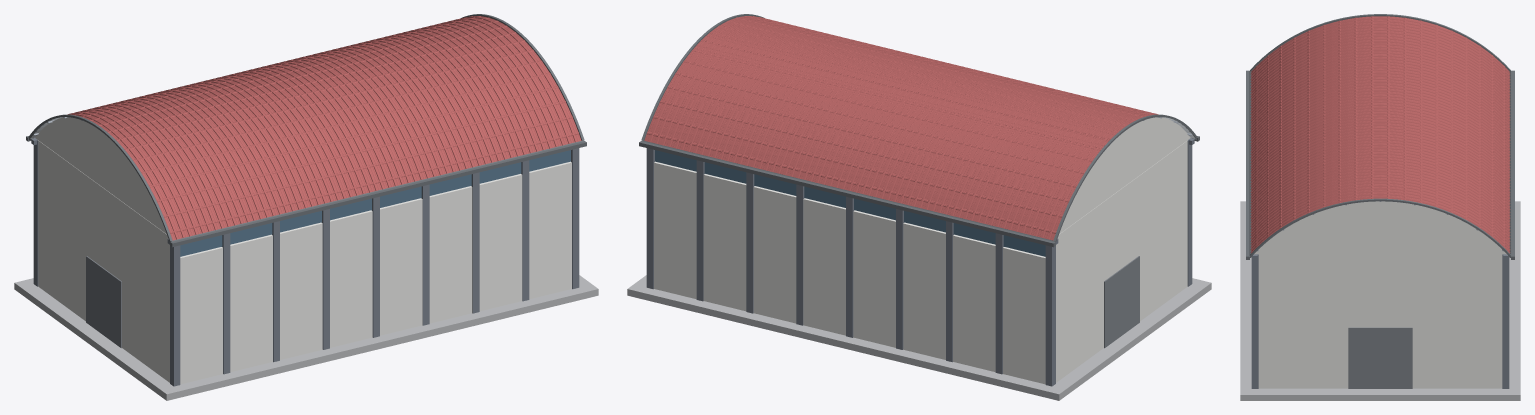
File: Mega_Curved_Gym_Dome.glb
3 views of the same model, side by side, from view 1: azimuth 30°, elevation 25°; view 2: azimuth 150°, elevation 25°; view 3: azimuth 270°, elevation 25° (orthographic). The views are drawn at different scales.
Visible parts, largest first — view 1: Gym_Walls_Front, Gym_Walls_Left, Foundation, Gym_ArchEnd_Left, Window_Clerestory_Front, RoofSheet_05, RoofSheet_04, RoofSheet_09, RoofSheet_12, RoofSheet_03, RoofSheet_13, RoofSheet_07 (+24 smaller); view 2: Gym_Walls_Back, Gym_Walls_Left, Foundation, Gym_ArchEnd_Left, Window_Clerestory_Back, RoofSheet_05, RoofSheet_04, RoofSheet_09, RoofSheet_12, RoofSheet_03, RoofSheet_13, RoofSheet_07 (+24 smaller); view 3: Gym_Walls_Right, Gym_ArchEnd_Right, Foundation, Main_Door_Right, RoofSheet_11, RoofSheet_13, RoofSheet_15, RoofSheet_09, RoofSheet_02, RoofSheet_07, RoofSheet_04, RoofSheet_14 (+16 smaller).
Part boxes in pixels (x1=…): Gym_Walls_Front: x1=180, y1=161, x2=571, y2=384; Gym_Walls_Left: x1=38, y1=140, x2=169, y2=382; Foundation: x1=14, y1=275, x2=598, y2=400; Gym_ArchEnd_Left: x1=35, y1=117, x2=166, y2=233; Window_Clerestory_Front: x1=180, y1=150, x2=570, y2=256; RoofSheet_05: x1=164, y1=84, x2=299, y2=215; RoofSheet_04: x1=138, y1=90, x2=273, y2=221; RoofSheet_09: x1=267, y1=59, x2=402, y2=190; RoofSheet_12: x1=344, y1=40, x2=479, y2=171; RoofSheet_03: x1=112, y1=97, x2=248, y2=228; RoofSheet_13: x1=370, y1=34, x2=505, y2=165; RoofSheet_07: x1=216, y1=71, x2=351, y2=202; Gym_Walls_Back: x1=654, y1=161, x2=1045, y2=384; Gym_Walls_Left: x1=1056, y1=140, x2=1187, y2=382; Foundation: x1=627, y1=275, x2=1211, y2=400; Gym_ArchEnd_Left: x1=1059, y1=117, x2=1190, y2=233; Window_Clerestory_Back: x1=655, y1=150, x2=1045, y2=256; RoofSheet_05: x1=926, y1=84, x2=1061, y2=215; RoofSheet_04: x1=952, y1=90, x2=1087, y2=221; RoofSheet_09: x1=823, y1=59, x2=958, y2=190; RoofSheet_12: x1=746, y1=40, x2=881, y2=171; RoofSheet_03: x1=977, y1=97, x2=1113, y2=228; RoofSheet_13: x1=720, y1=34, x2=855, y2=165; RoofSheet_07: x1=874, y1=71, x2=1009, y2=202; Gym_Walls_Right: x1=1258, y1=254, x2=1502, y2=388; Gym_ArchEnd_Right: x1=1254, y1=201, x2=1506, y2=254; Foundation: x1=1240, y1=201, x2=1520, y2=400; Main_Door_Right: x1=1348, y1=327, x2=1412, y2=388; RoofSheet_11: x1=1250, y1=130, x2=1510, y2=197; RoofSheet_13: x1=1250, y1=153, x2=1510, y2=220; RoofSheet_15: x1=1250, y1=176, x2=1510, y2=243; RoofSheet_09: x1=1250, y1=107, x2=1510, y2=173; RoofSheet_02: x1=1250, y1=27, x2=1510, y2=92; RoofSheet_07: x1=1250, y1=84, x2=1510, y2=150; RoofSheet_04: x1=1250, y1=50, x2=1510, y2=116; RoofSheet_14: x1=1250, y1=165, x2=1510, y2=231.
Size of the model in its own units: 17.01 by 8.09 by 10.4.
